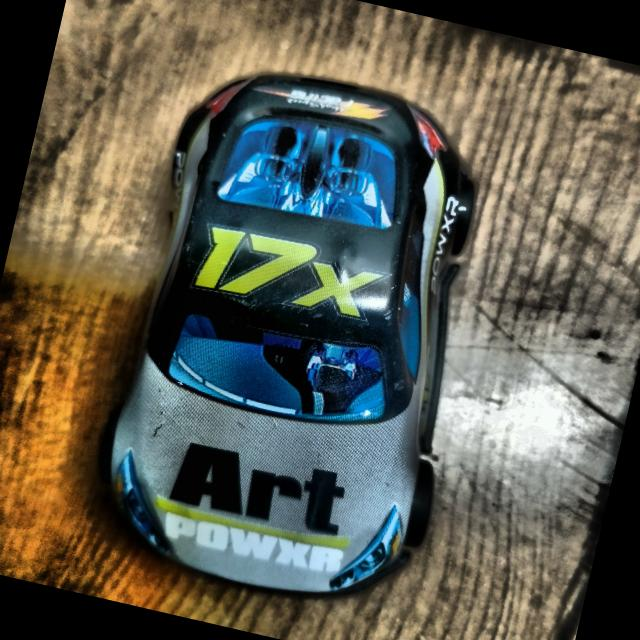Car: (80, 49, 518, 622)
